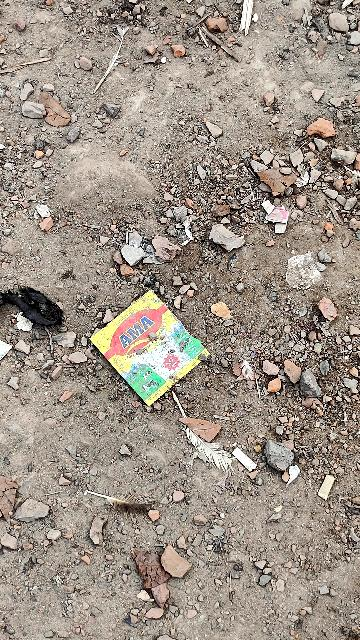packet: (87, 268, 234, 416)
